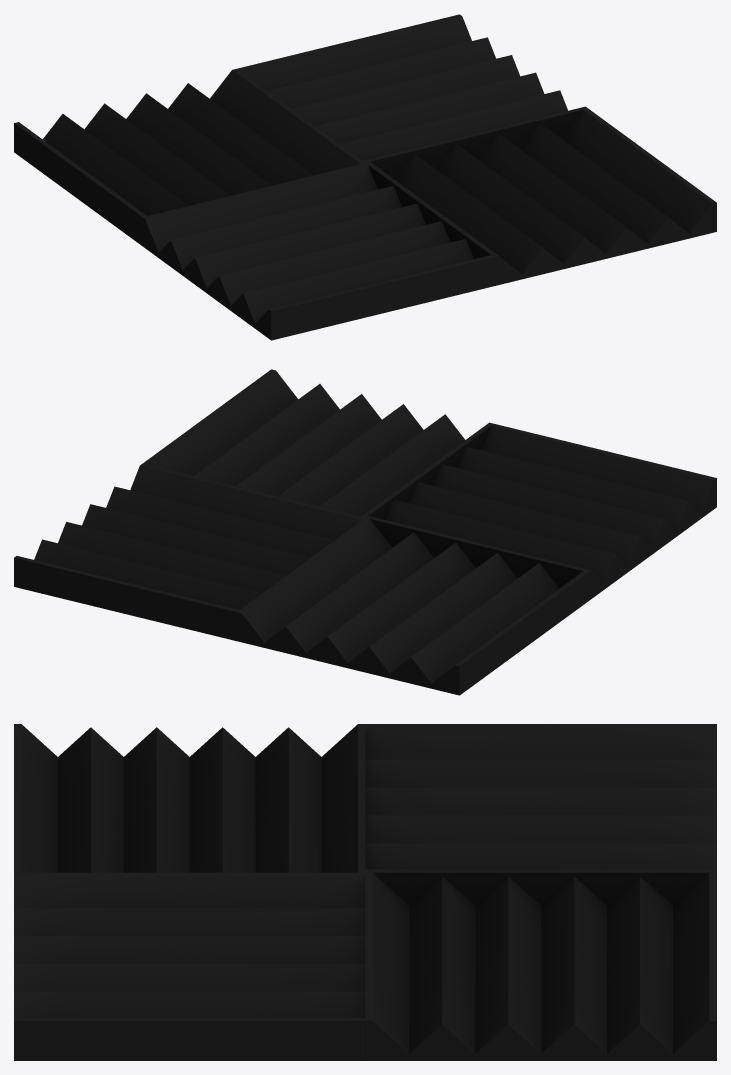
File: dampening_foam.obj
3 renders of one model, top to bottom at view 1: azimuth 30°, elevation 25°; view 2: azimuth 150°, elevation 25°; view 3: azimuth 270°, elevation 25°, orthographic. The views are drawn at different scales.
Parts seen in each view (by area): view 1: Cube.003_Cube.004; view 2: Cube.003_Cube.004; view 3: Cube.003_Cube.004.
Part boxes in pixels (<box>): Cube.003_Cube.004: <box>14,14,716,340</box>; Cube.003_Cube.004: <box>14,369,716,695</box>; Cube.003_Cube.004: <box>14,724,716,1060</box>.
Size of the model in its own units: 16 by 1 by 16.
